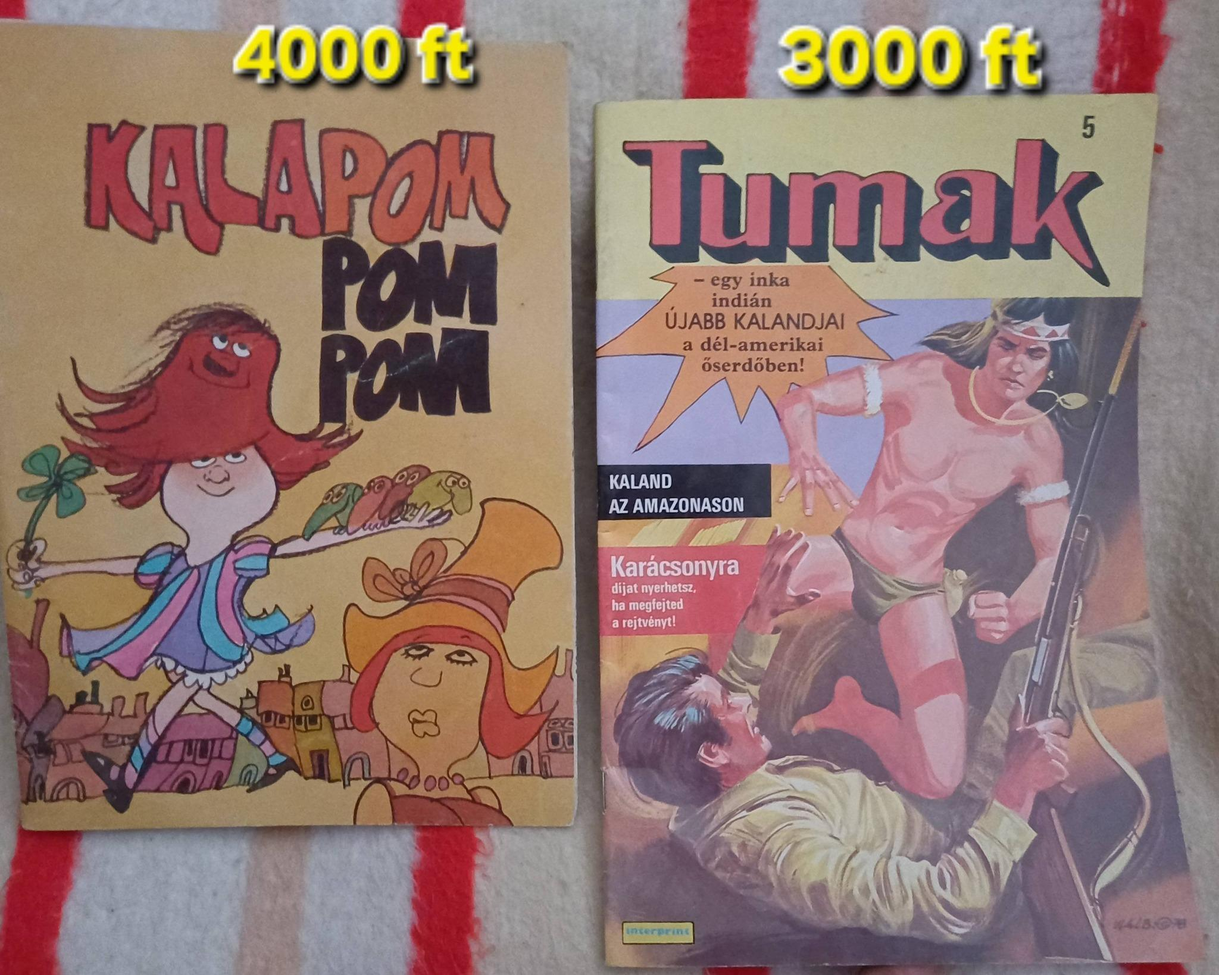comic: (591, 92, 1201, 970), (0, 25, 574, 829)
